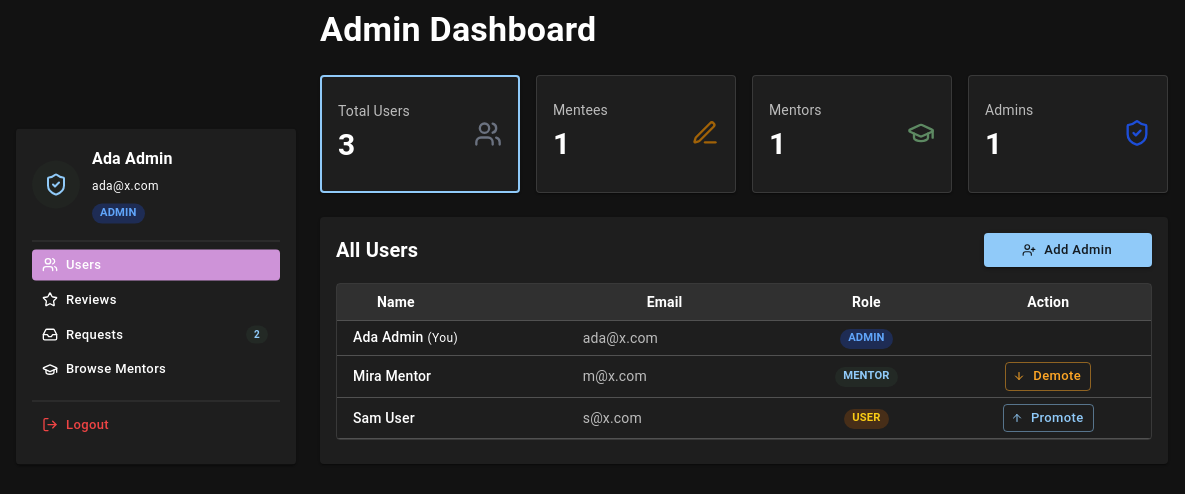
it: AdminDashboardPage › switches to reviews tab and shows review cards
Check: the heading "Ada Admin" is shown, box [92, 145, 173, 173]
Click the button "Reviews" at (156, 300), box [32, 284, 280, 315]
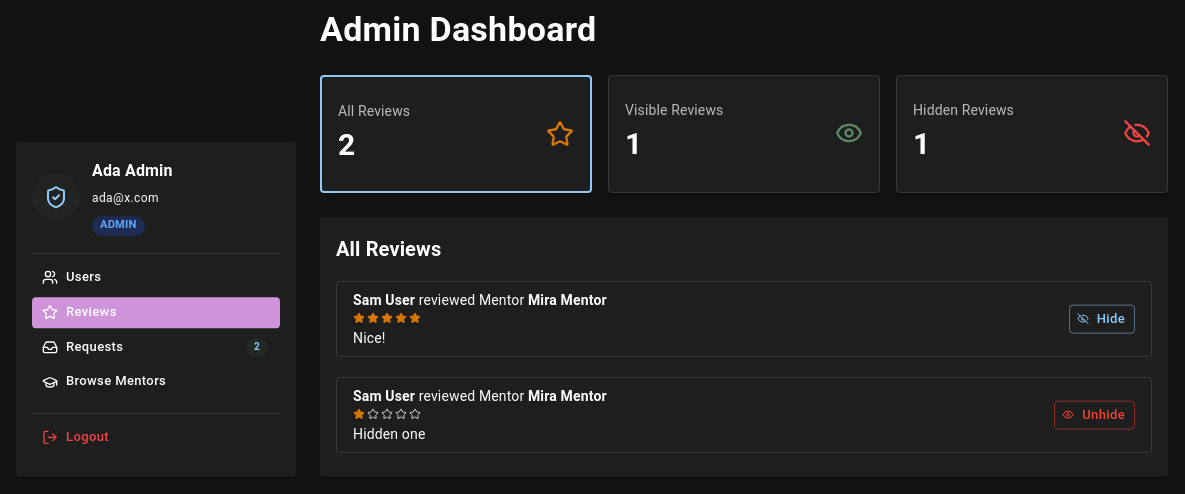
Check: the text "Nice!" is shown, box [353, 330, 386, 346]
Check: the text "Hidden one" is shown, box [353, 426, 426, 442]
